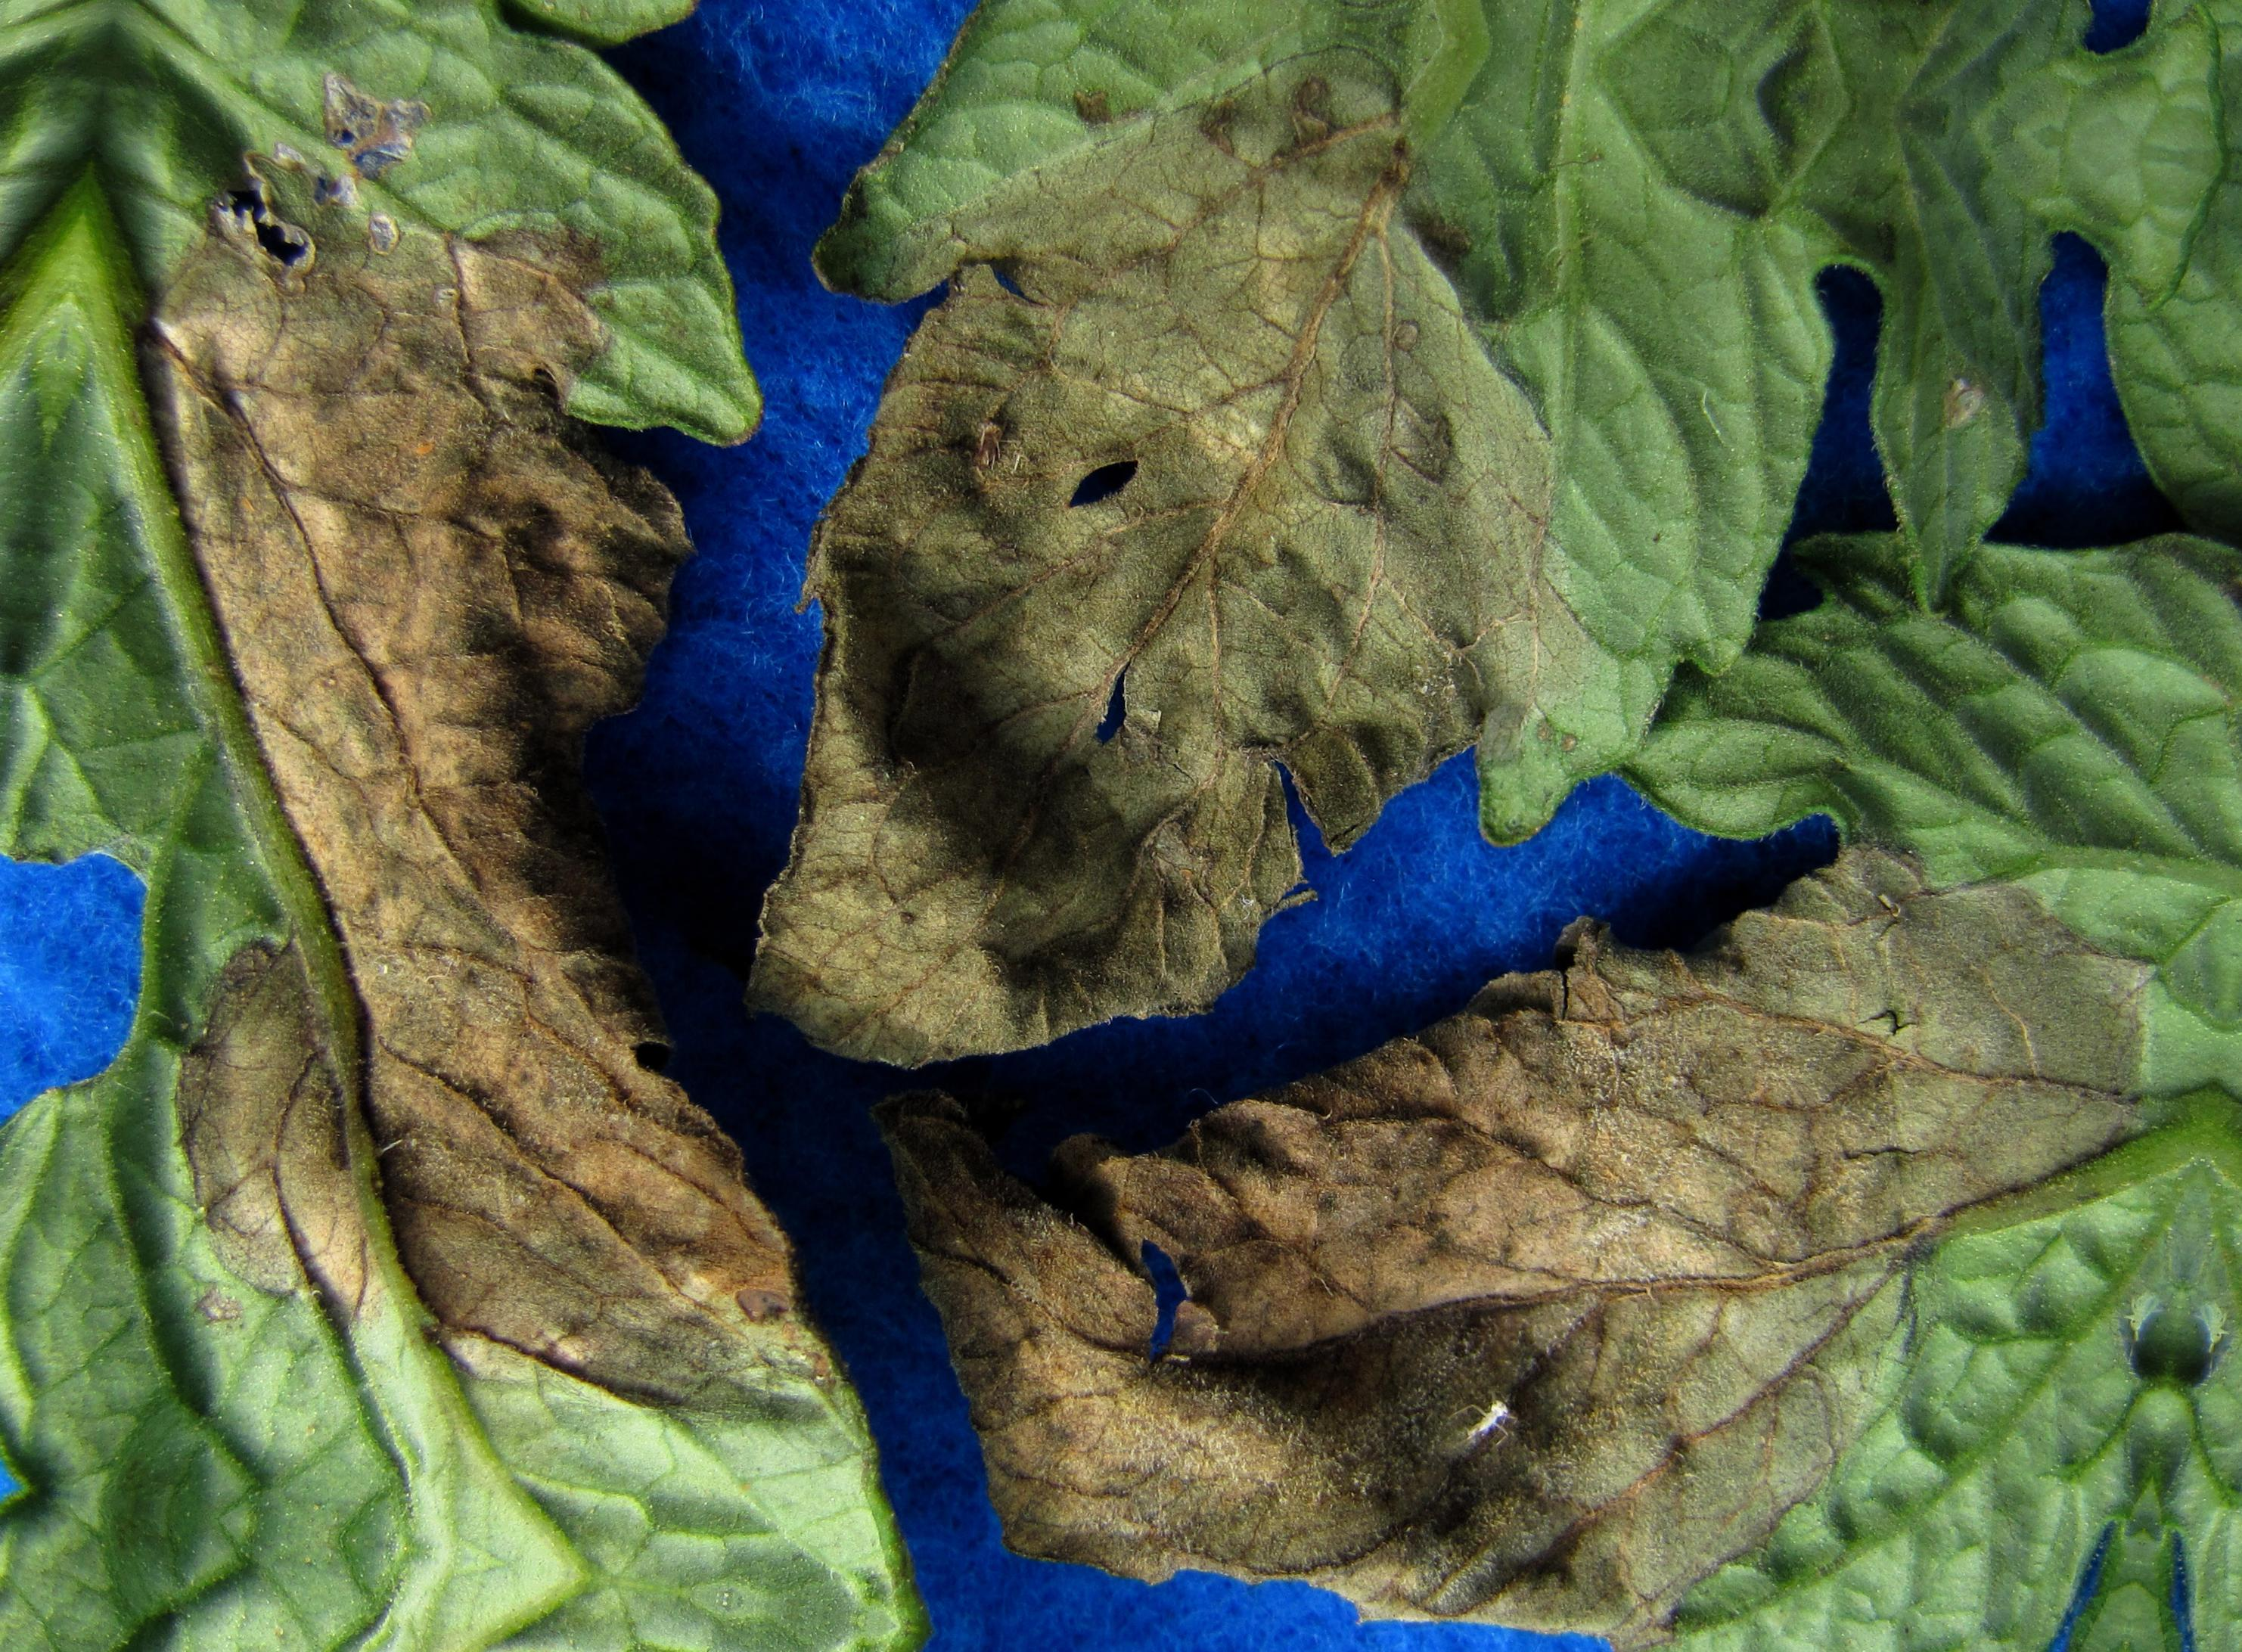Tomato leaf late blight: (628, 0, 2099, 1241), (869, 371, 2242, 1652)
